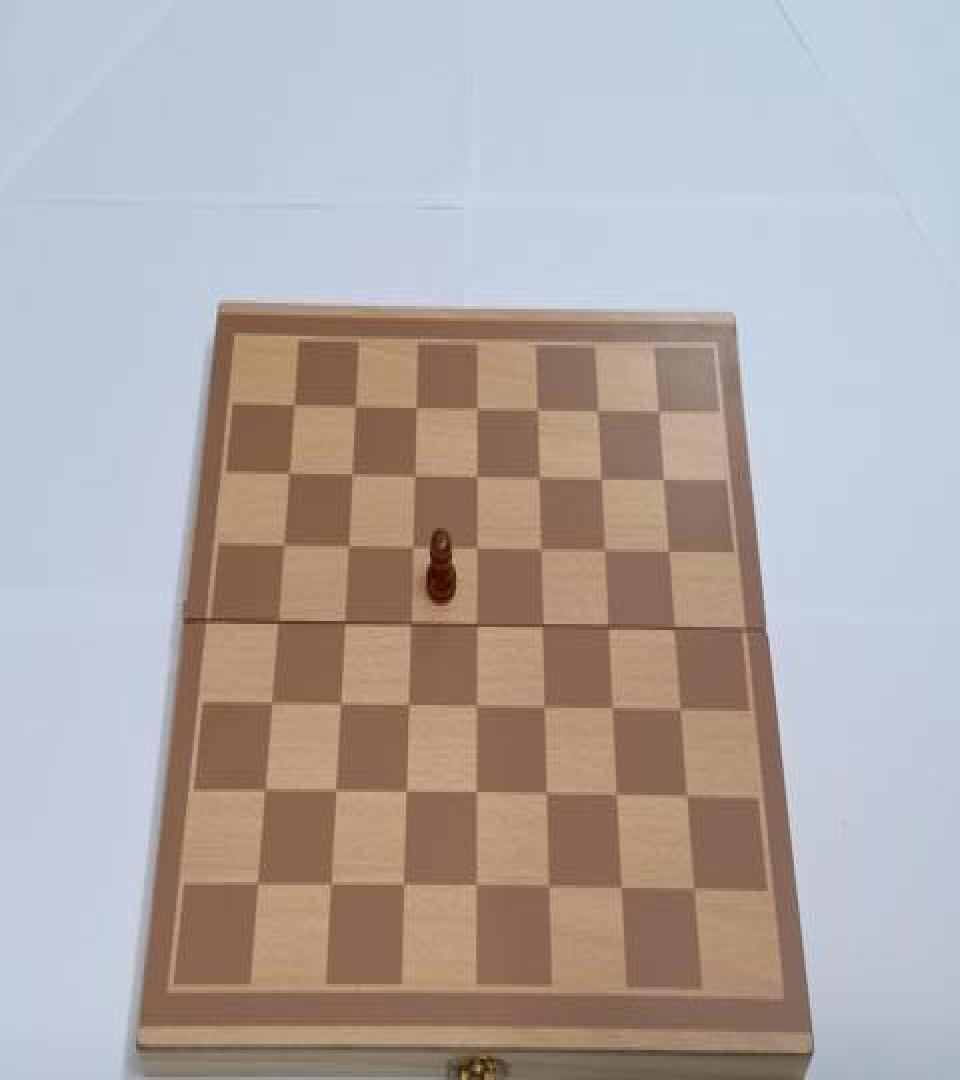xcorner: (286, 394, 304, 422), (399, 694, 417, 722), (467, 694, 485, 722), (530, 466, 548, 494), (592, 466, 610, 494), (281, 462, 299, 489), (269, 612, 287, 639), (263, 693, 281, 720), (257, 778, 275, 805), (347, 396, 365, 423), (336, 612, 354, 639), (331, 693, 349, 720), (327, 780, 345, 807), (407, 396, 425, 423), (404, 537, 422, 564), (397, 780, 415, 807), (395, 873, 413, 900), (468, 397, 486, 424), (468, 465, 486, 492), (468, 537, 486, 564), (467, 873, 485, 900), (528, 397, 546, 424), (532, 538, 550, 565), (533, 615, 551, 642), (535, 696, 553, 723), (540, 874, 558, 901), (589, 399, 607, 426), (596, 538, 614, 565), (599, 615, 617, 642), (603, 696, 621, 723), (608, 783, 626, 810), (612, 874, 630, 901), (649, 399, 667, 426), (654, 468, 672, 495), (660, 540, 678, 567), (665, 617, 683, 644), (678, 783, 696, 810), (685, 876, 703, 903), (275, 536, 293, 562), (250, 872, 268, 898), (343, 464, 361, 490), (339, 536, 357, 562), (322, 872, 340, 898), (405, 464, 423, 490), (402, 614, 420, 640), (468, 614, 486, 640), (467, 782, 485, 808), (538, 782, 556, 808), (671, 698, 689, 724)
